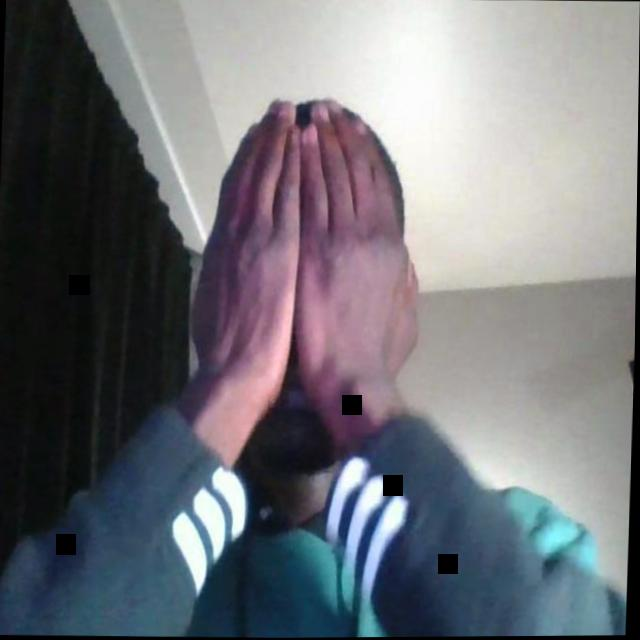NO-Mask: (248, 348, 348, 473)
